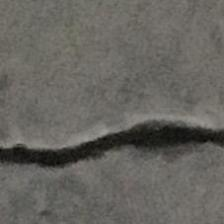Crack: (1, 110, 224, 180)
